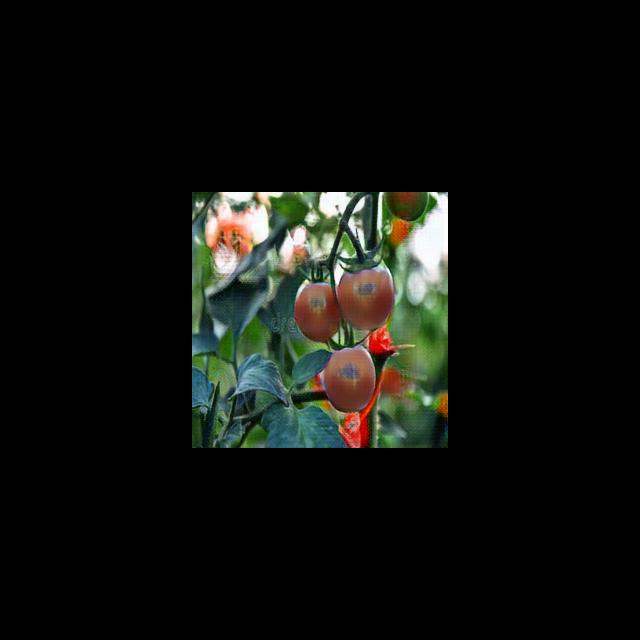tomato: (334, 254, 395, 333), (324, 343, 376, 415), (293, 281, 339, 339)
